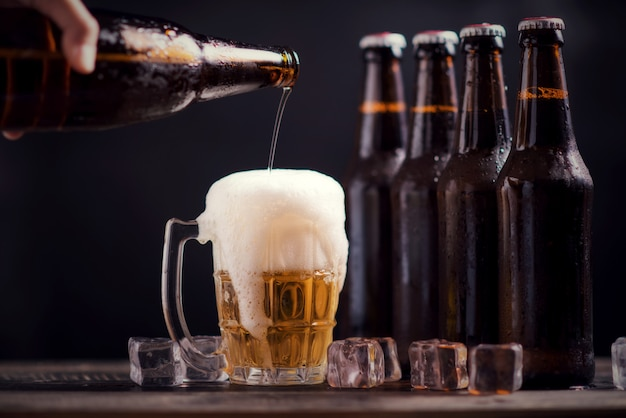alcohol: (159, 167, 352, 388), (2, 6, 301, 137), (437, 24, 522, 389), (510, 19, 594, 388), (405, 29, 474, 389), (345, 34, 413, 385)
